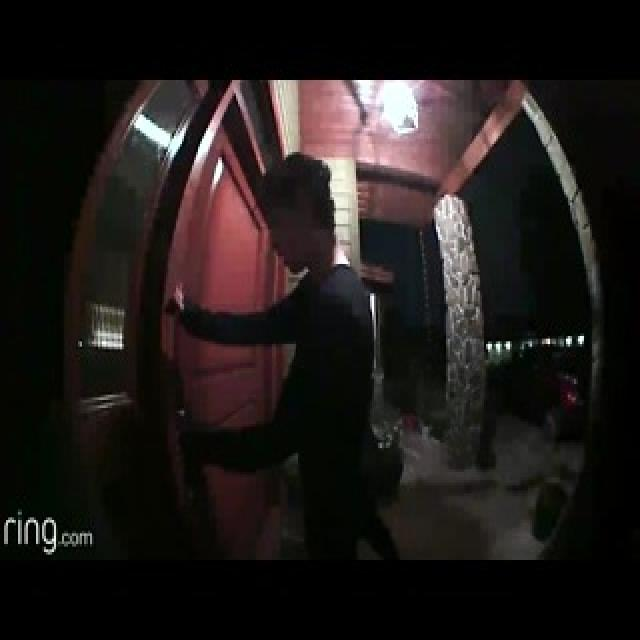thief: (238, 116, 375, 390)
